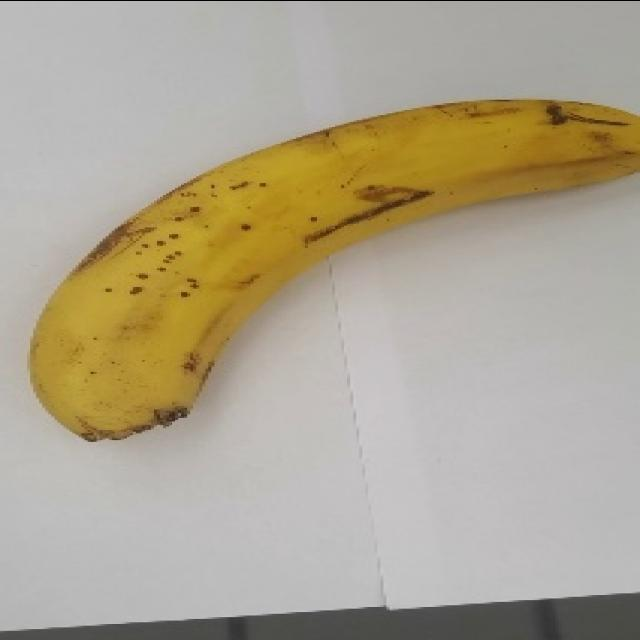Banana: (28, 96, 639, 442)
